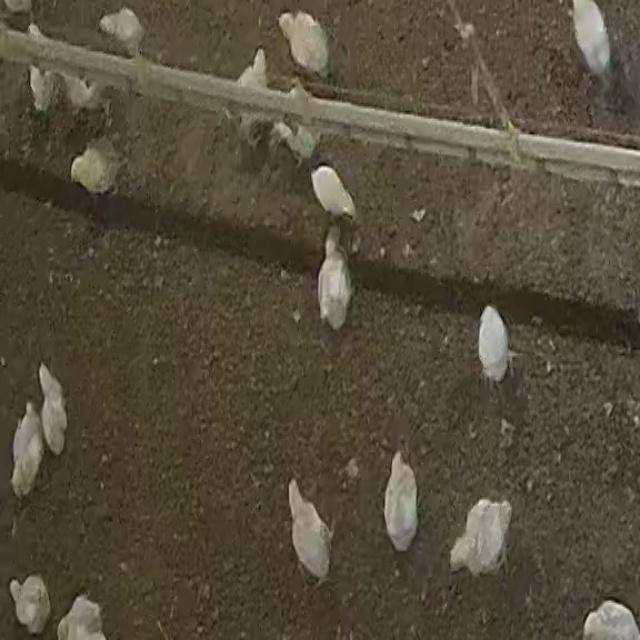chicken: (449, 499, 512, 578), (288, 479, 332, 583), (567, 2, 613, 92), (317, 233, 357, 329), (383, 450, 419, 552), (234, 48, 272, 144), (10, 402, 45, 500), (278, 9, 329, 76), (70, 139, 120, 196), (38, 362, 68, 456), (473, 306, 511, 380), (310, 164, 356, 223), (8, 574, 51, 635), (102, 11, 148, 53)
